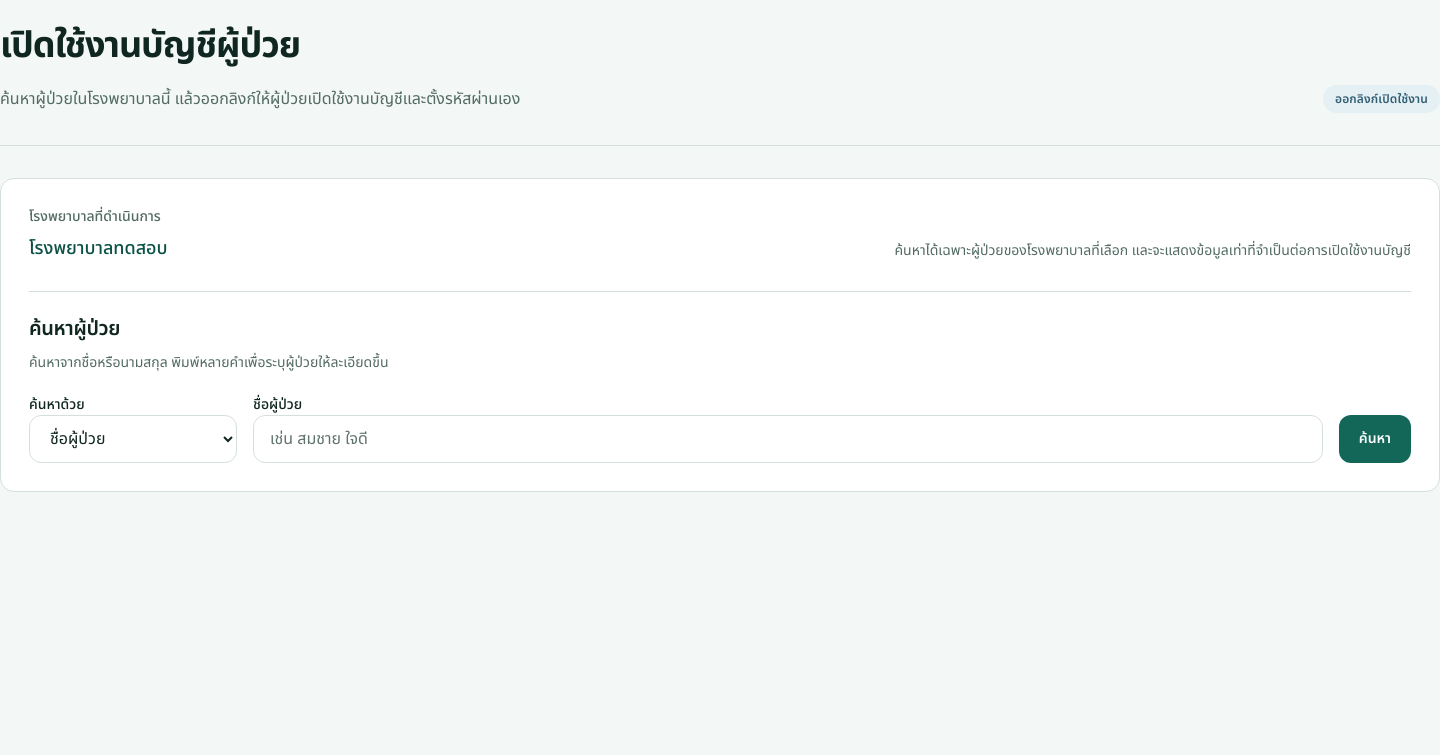
Patient activation search and link issuance › issuance feedback › shows one success Toast for ISSUED, keeps the token inline only, and never replays
The width and height of the screenshot is (1440, 755).
Type "สมชาย" into the field named "value" at (788, 439), box [253,415,1323,463]
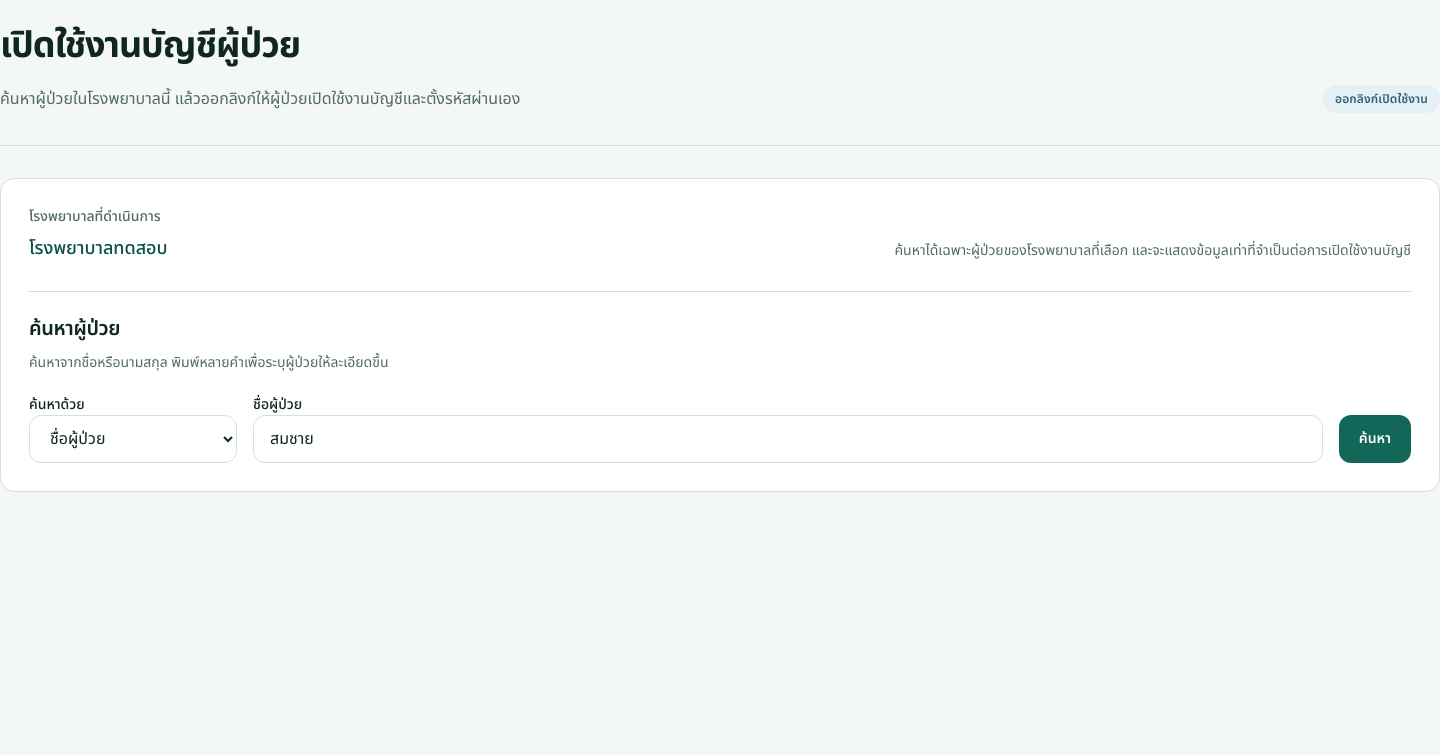
Click the button "ค้นหา" at (1375, 439), box [1339,415,1411,463]
(page scrolled)
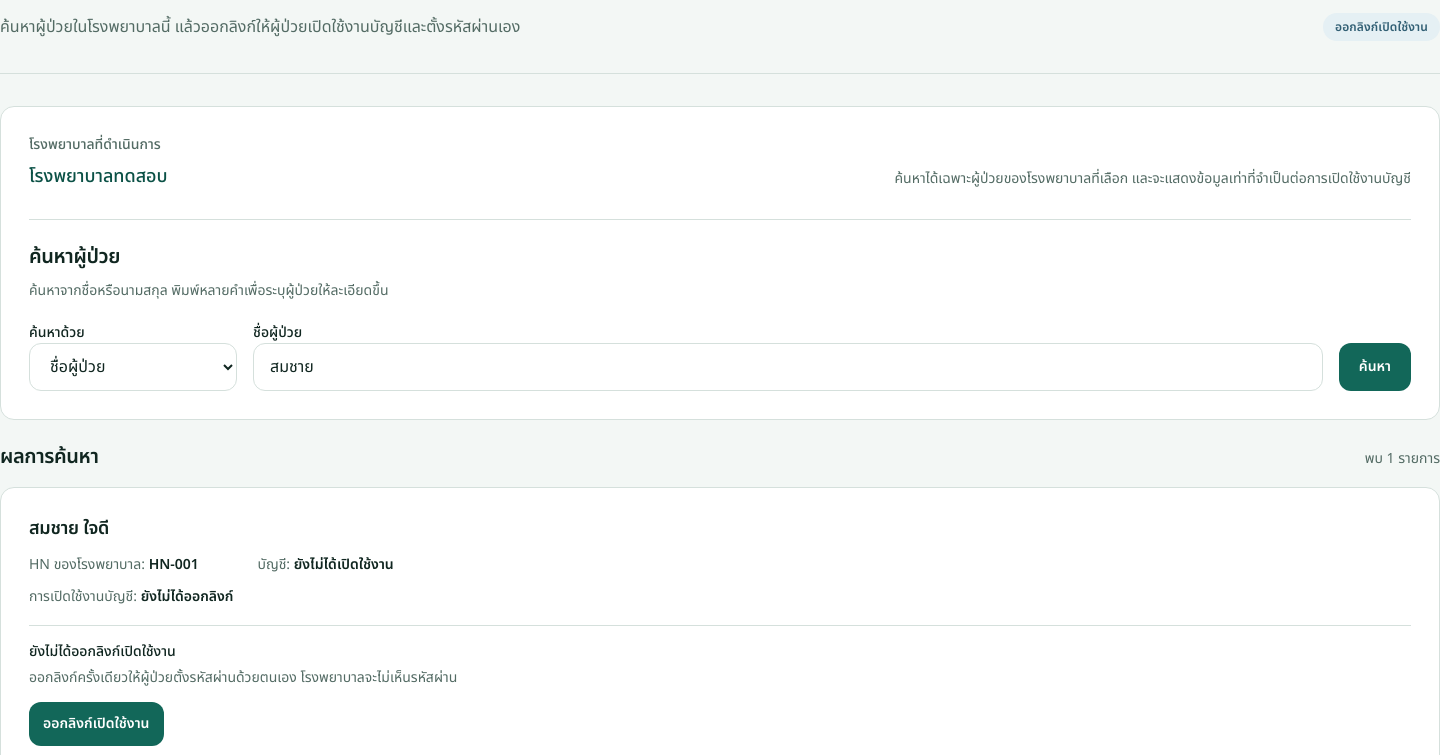
Click the submit button at (96, 724), box [29,702,164,746]
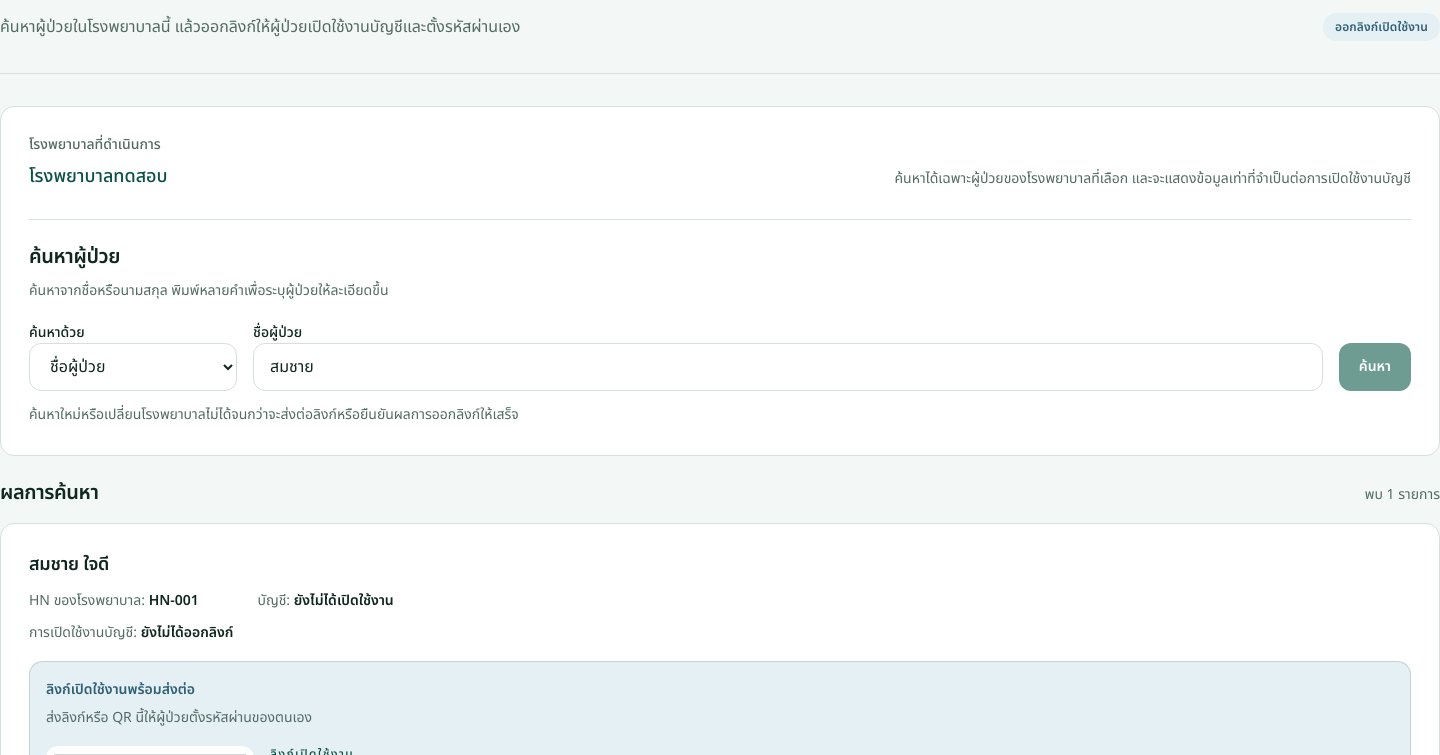
Expected: the text "ลิงก์เปิดใช้งานพร้อมส่งต่อ" is shown, [46,679,195,700]
